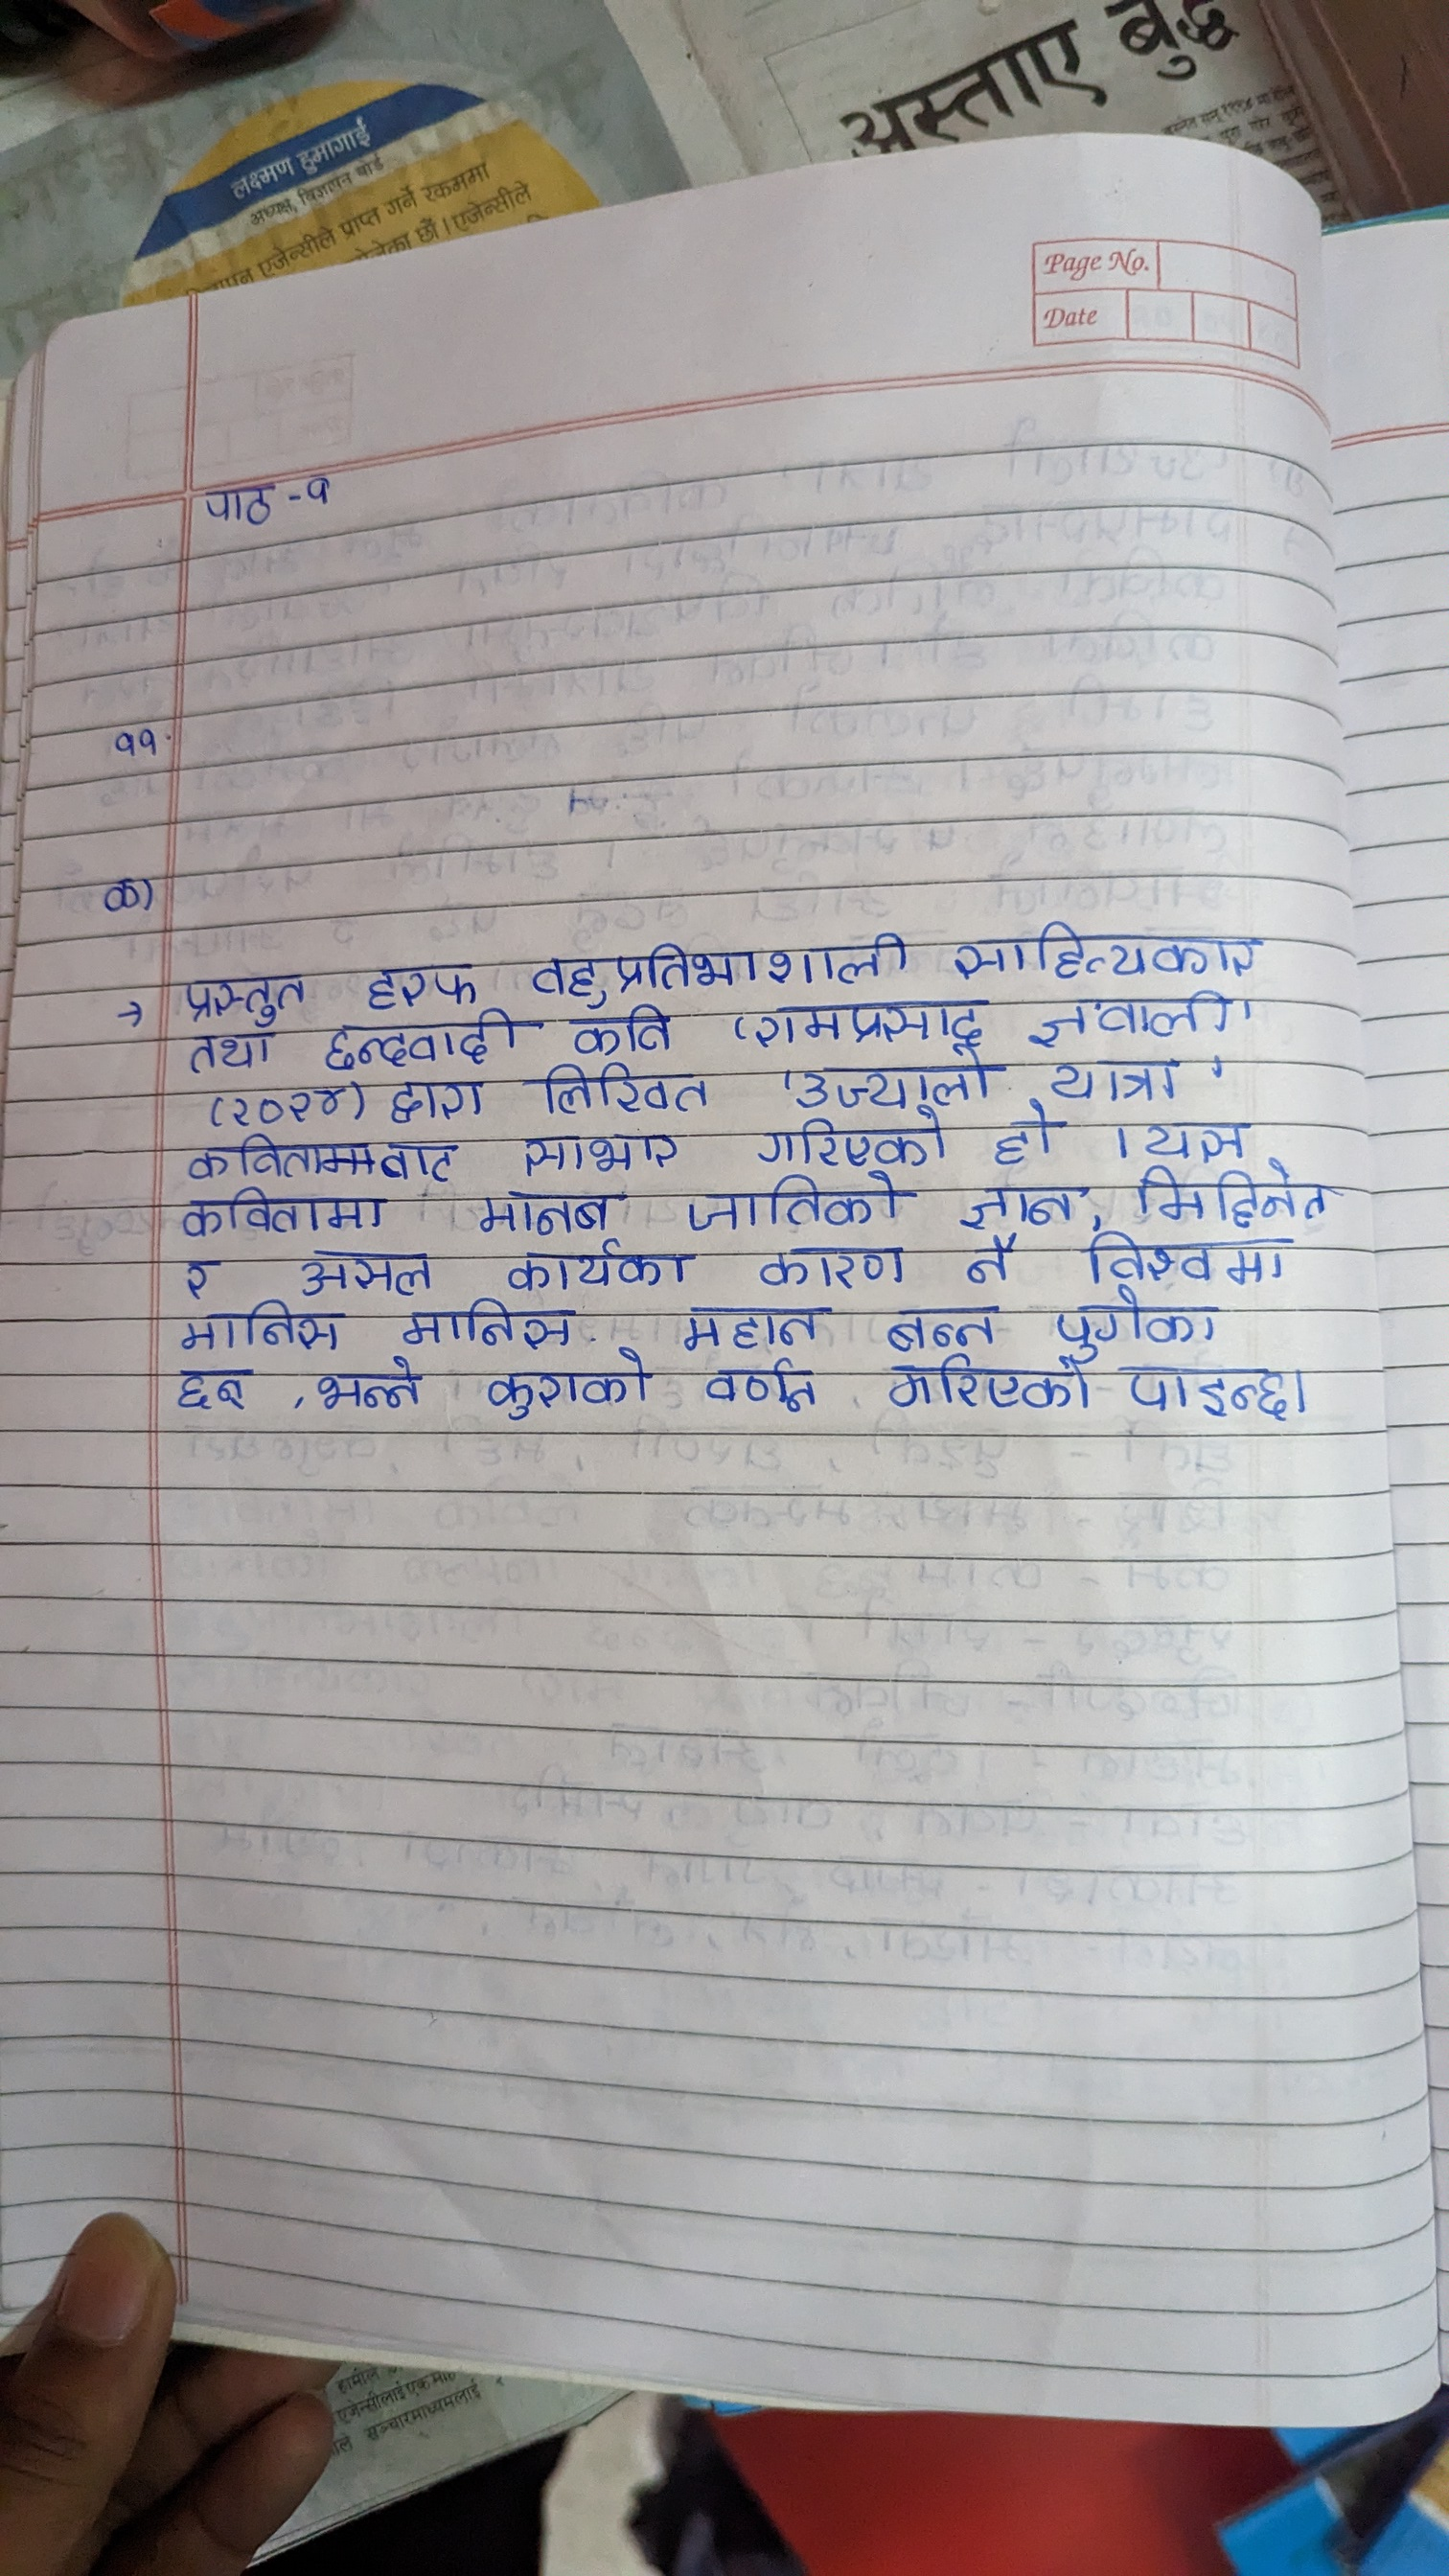text: (525, 931, 922, 1001), (939, 920, 1267, 977), (1019, 987, 1249, 1044), (674, 1180, 908, 1235), (888, 1357, 1097, 1417), (1122, 1361, 1297, 1431), (1123, 1171, 1334, 1230), (488, 1352, 658, 1422), (1040, 1292, 1223, 1355), (165, 1304, 361, 1362), (796, 1049, 991, 1108), (1079, 1237, 1290, 1286), (750, 1116, 945, 1169), (172, 1185, 386, 1231), (754, 1003, 985, 1046), (540, 1065, 720, 1118), (173, 1136, 375, 1182), (322, 1016, 518, 1062), (497, 1242, 690, 1286), (290, 1240, 439, 1297), (393, 1302, 579, 1346), (510, 1132, 688, 1177), (750, 1242, 904, 1292), (694, 1361, 830, 1414), (1046, 1056, 1185, 1108), (672, 1302, 823, 1348), (872, 1299, 1007, 1350), (471, 1192, 628, 1235), (361, 959, 487, 1012), (173, 970, 308, 1019), (189, 467, 290, 531), (957, 1180, 1070, 1231), (570, 1007, 681, 1058), (311, 1366, 430, 1414), (226, 1088, 354, 1131), (90, 872, 165, 936), (1139, 1115, 1242, 1161), (170, 1366, 262, 1415), (387, 1085, 485, 1129), (188, 1028, 274, 1077), (996, 1111, 1065, 1169), (382, 1141, 462, 1185), (962, 1233, 1023, 1292), (103, 717, 168, 770), (301, 467, 352, 518), (177, 1254, 223, 1302)
